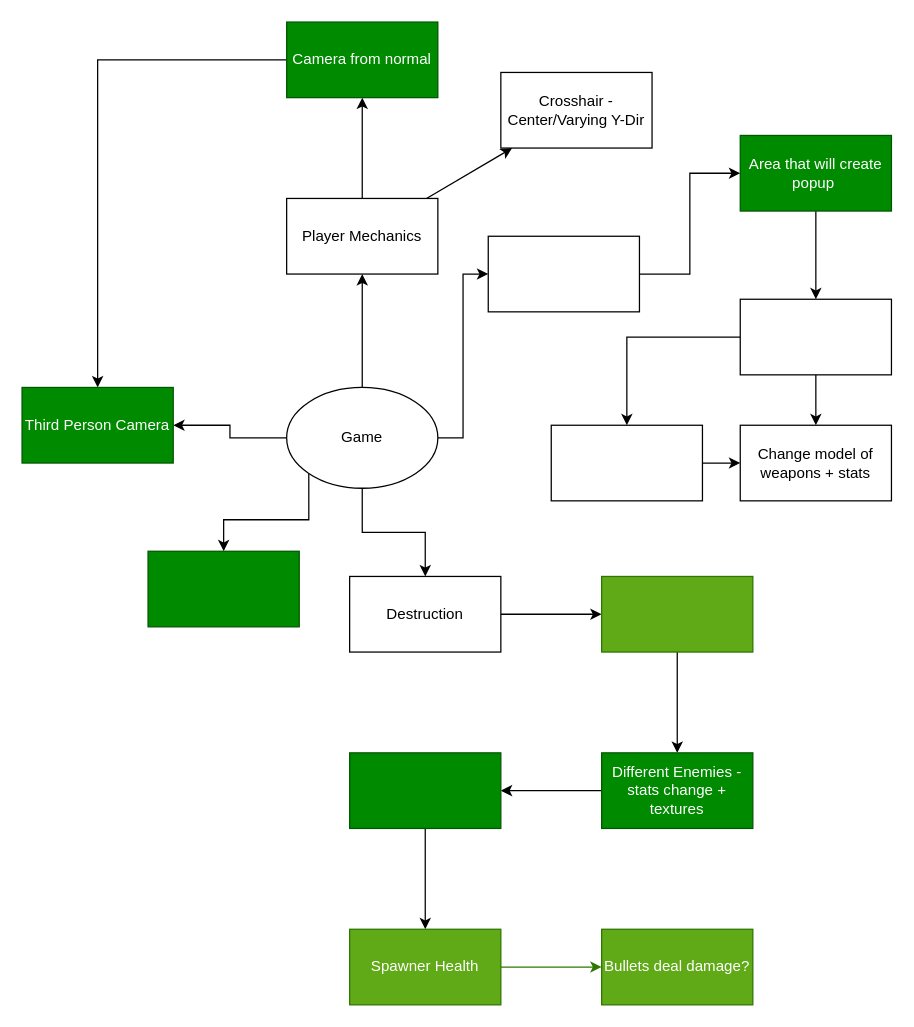
Some shapes in this 914 by 1027 pixel diagram are drawn without their labels. The shapes that lost their labels are listed below. From the top down, each one's box as (x1, y1, x2, y2) in pixels, then its label:
(487, 235, 639, 312): Construction
(739, 298, 891, 375): Exchange score
(550, 424, 702, 501): Simple: Upgrade Weapon Costs: X Score
(147, 550, 299, 627): 5 minute timer
(600, 575, 753, 652): Enemies from normal
(348, 752, 501, 828): Spawners (?)
